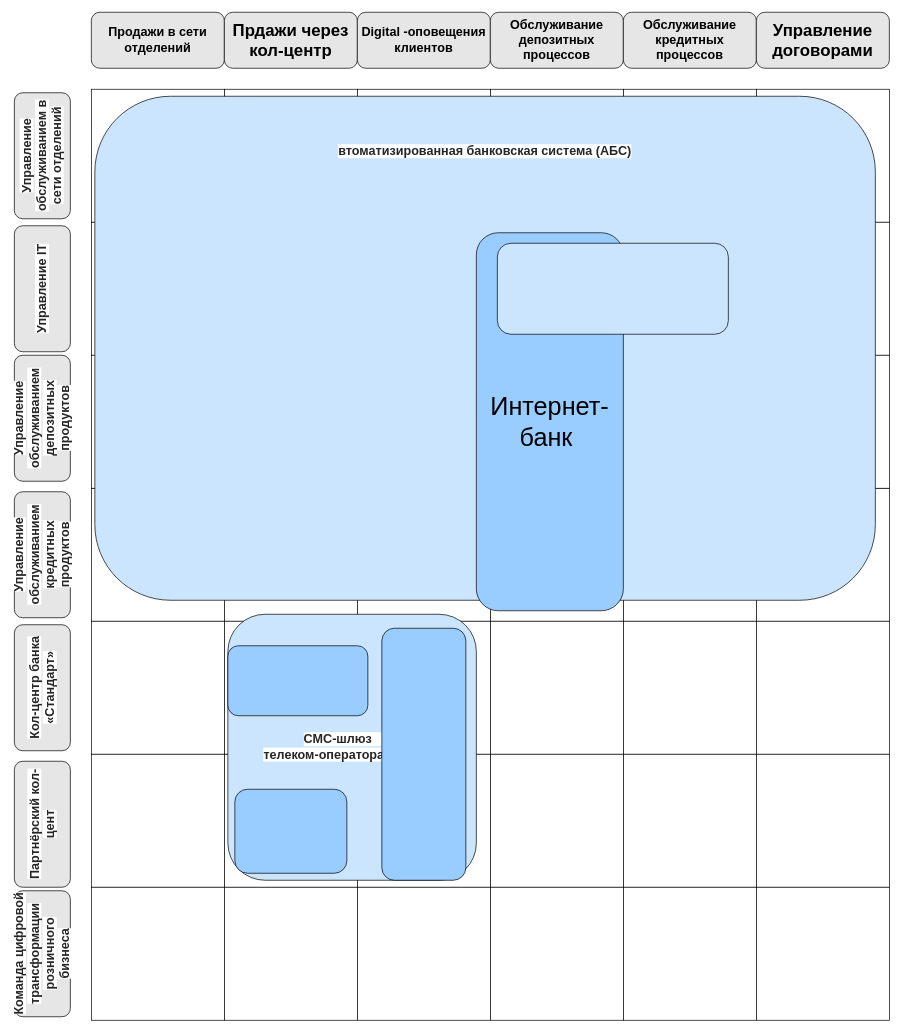
This 902x1033 diagram has some shape labels left out. The shapes that lost their labels are listed below. From the top down, each one's centre as x and y in pixels, then its label:
At point (612, 288): "Сайт".
At point (297, 680): "Система кол-центра .".
At point (423, 754): "Телеком-оператор".
At point (290, 831): "Система партнёрского кол-центра.".
